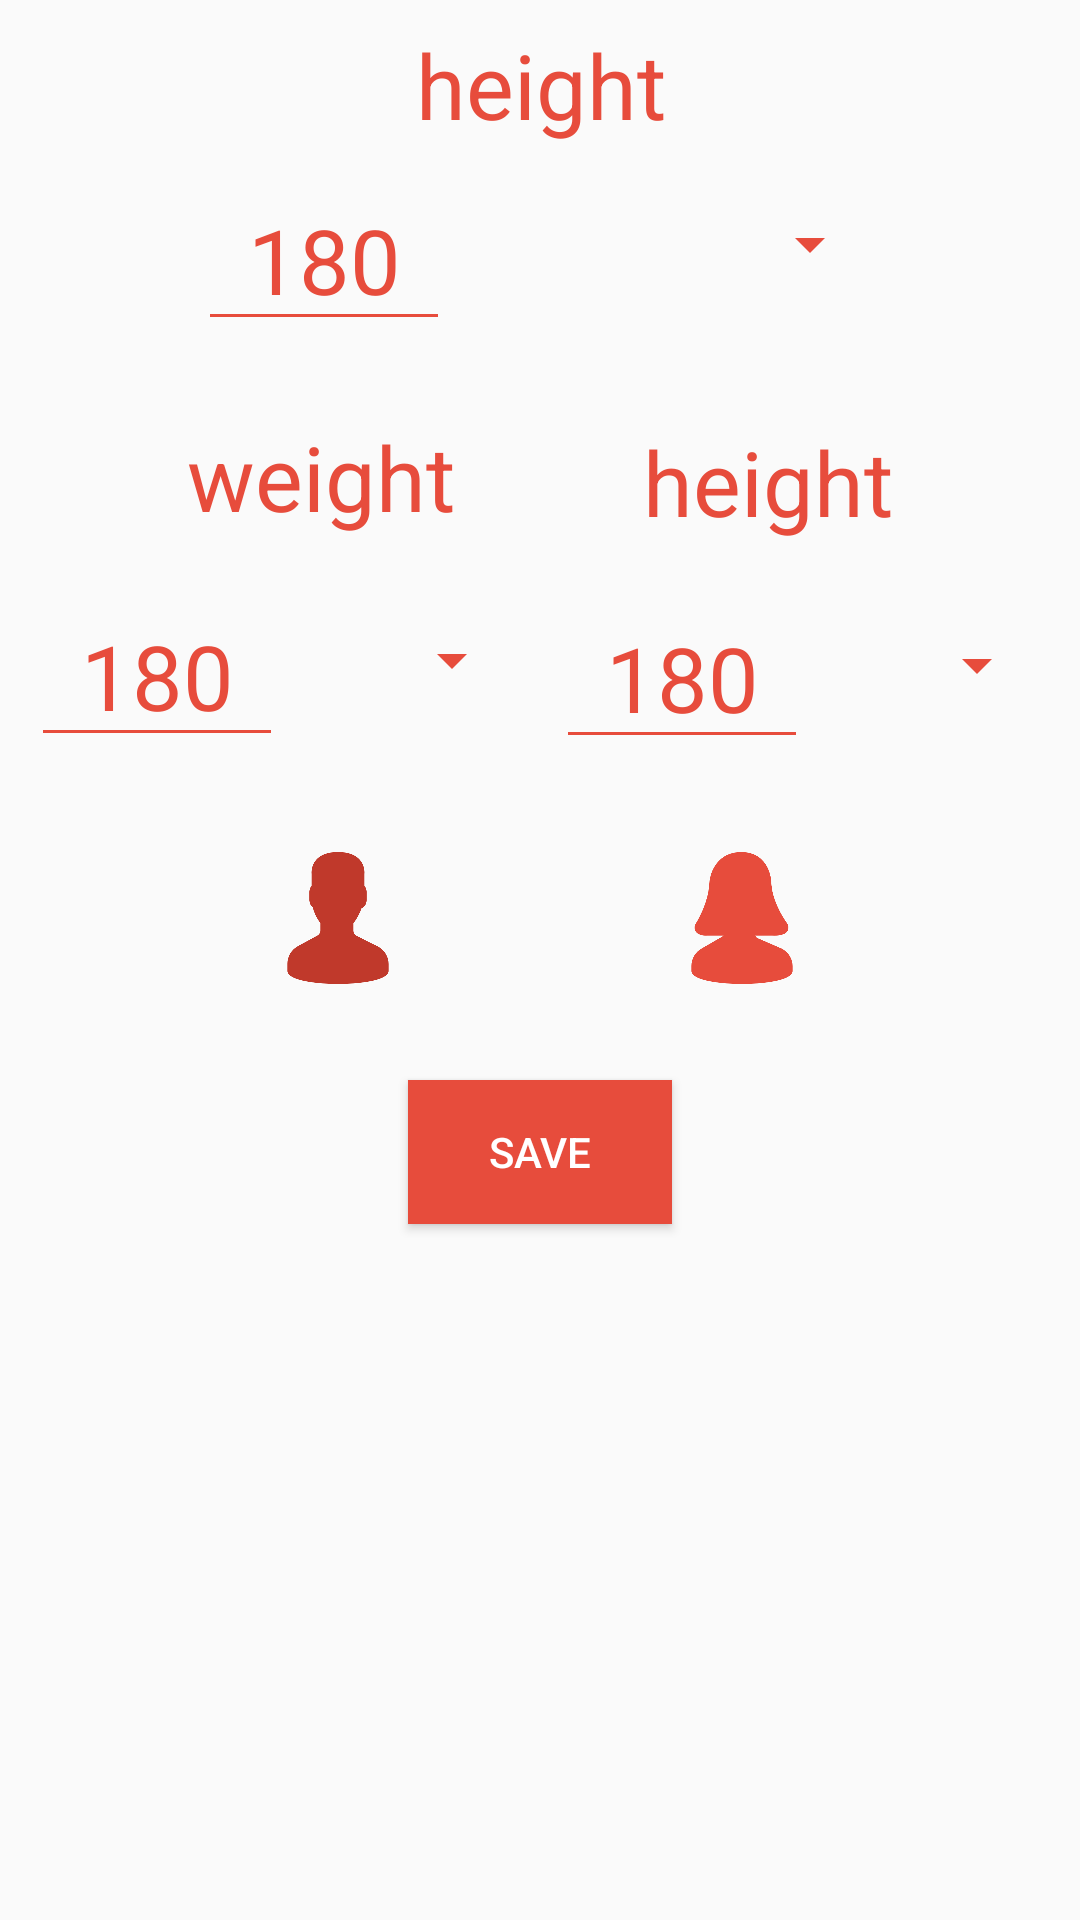

Icons on this 1080w x 1920h Android screen, each with the point to tap as (x=x, y=y):
user: (x=338, y=918), (x=742, y=918)
